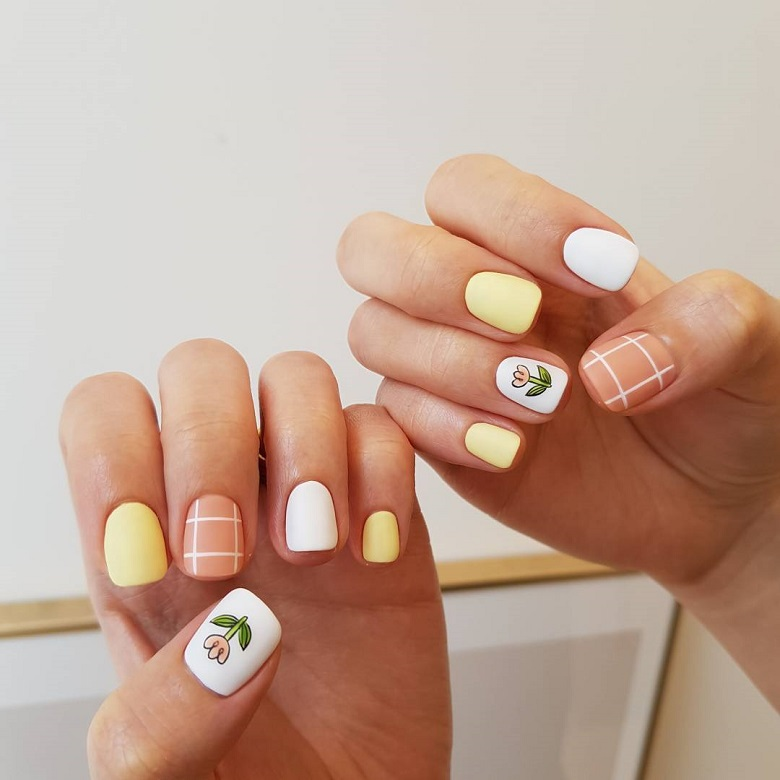nails: (183, 589, 284, 703), (578, 324, 687, 415), (556, 220, 651, 300), (178, 488, 251, 585), (100, 496, 171, 591), (490, 349, 573, 426), (460, 262, 546, 336), (278, 476, 343, 559), (459, 414, 524, 479), (358, 505, 408, 566)
